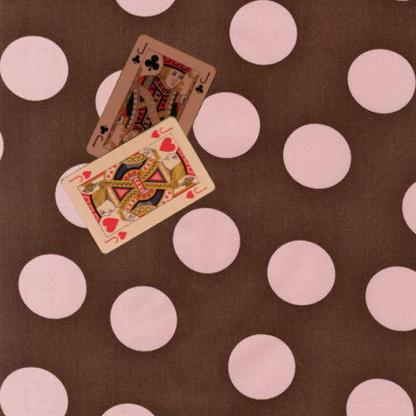Jc: (129, 40, 148, 65)
Jh: (102, 228, 128, 245), (148, 124, 174, 139)
